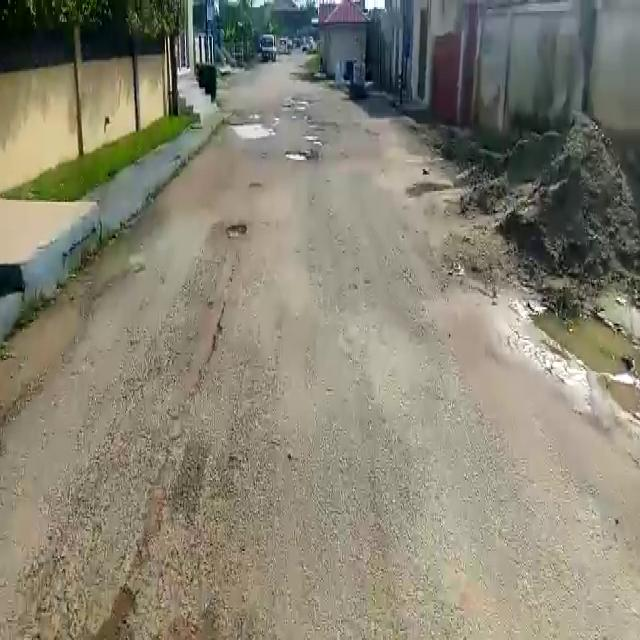Pothole: (227, 120, 276, 138), (281, 148, 317, 162), (224, 221, 248, 238)
